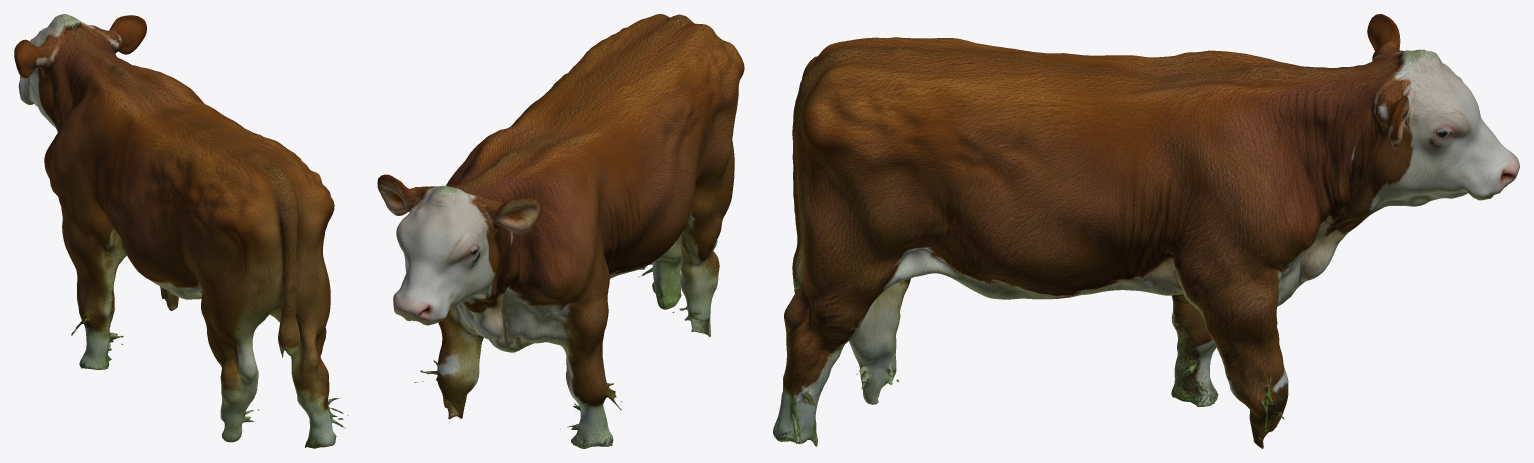
File: cow.glb
3 views of the same model, side by side, from view 1: azimuth 30°, elevation 25°; view 2: azimuth 150°, elevation 25°; view 3: azimuth 270°, elevation 25° (orthographic). The views are drawn at different scales.
Visible parts, largest first — view 1: tripo_node_61874f40-8ddd-4cbb-8fc1-7b4ca7e148fe; view 2: tripo_node_61874f40-8ddd-4cbb-8fc1-7b4ca7e148fe; view 3: tripo_node_61874f40-8ddd-4cbb-8fc1-7b4ca7e148fe.
Part boxes in pixels (box(x1,y1,x2,y2)): tripo_node_61874f40-8ddd-4cbb-8fc1-7b4ca7e148fe: box(14, 14, 347, 448); tripo_node_61874f40-8ddd-4cbb-8fc1-7b4ca7e148fe: box(377, 14, 744, 448); tripo_node_61874f40-8ddd-4cbb-8fc1-7b4ca7e148fe: box(773, 14, 1519, 448).
Size of the model in its own units: 0.3272 by 0.5626 by 0.9963.
1 material, 1 textured.
